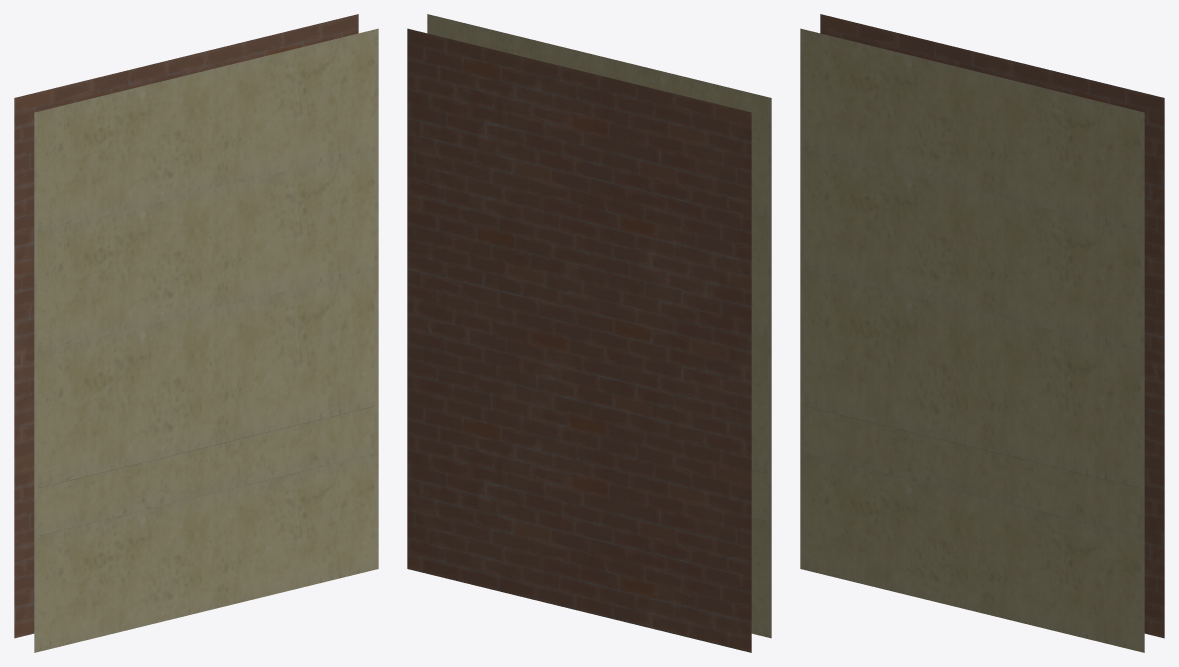
File: trim_plain_3.glb
3 views of the same model, side by side, from view 1: azimuth 30°, elevation 25°; view 2: azimuth 150°, elevation 25°; view 3: azimuth 330°, elevation 25° (orthographic).
Parts seen in each view (by area): view 1: Trim_Plain_3; view 2: Trim_Plain_3; view 3: Trim_Plain_3.
Part boxes in pixels (bbox=[...]): Trim_Plain_3: bbox=[14, 14, 378, 652]; Trim_Plain_3: bbox=[407, 14, 771, 652]; Trim_Plain_3: bbox=[800, 14, 1164, 652].
Size of the model in its own units: 2 by 3 by 0.2.
2 materials, 2 textured.
